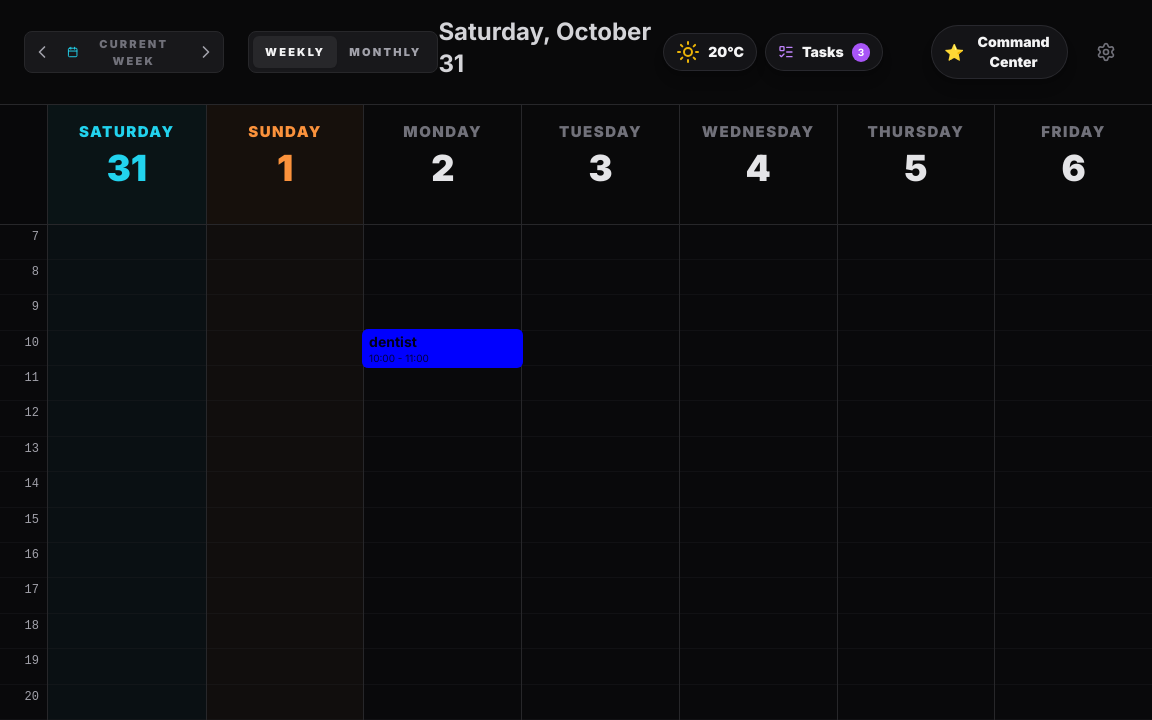
Test: Back from Mission Control › midnight into a new month while away: November is asked for; offline, October's read keeps the days it covers
Click the button with test id "switch-to-mc-btn": (1000, 52) [931, 25, 1068, 79]
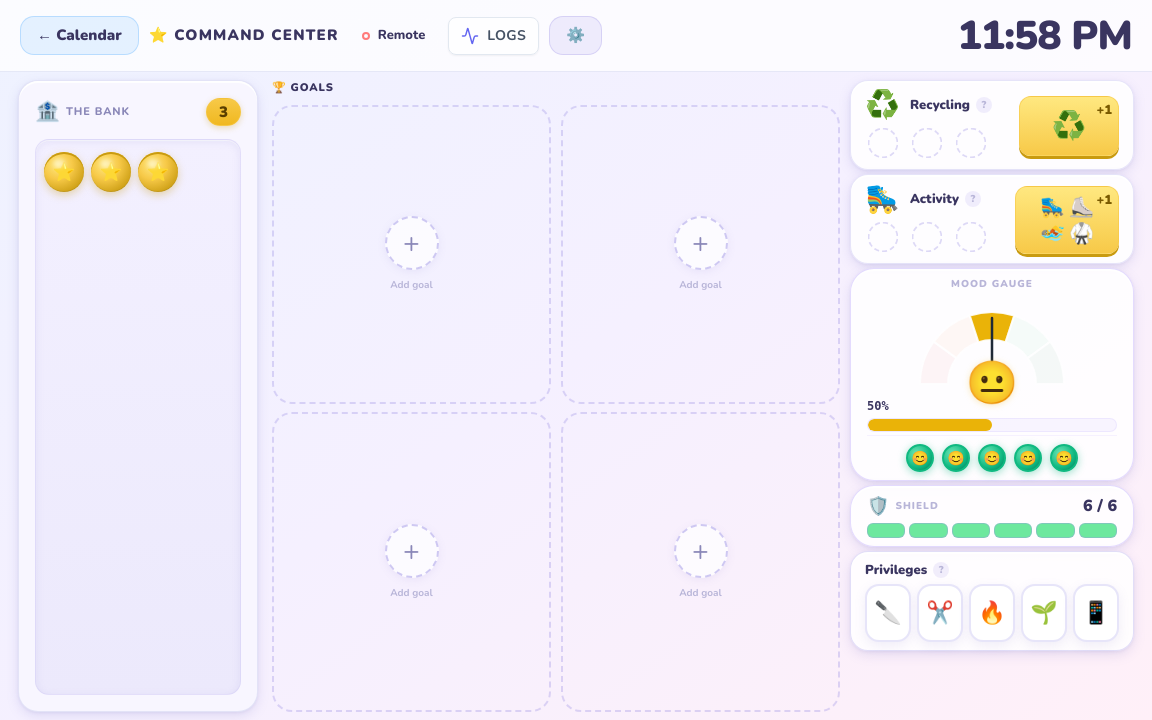
Click the button with test id "mc-back-to-calendar-btn": (79, 36) [20, 16, 139, 55]
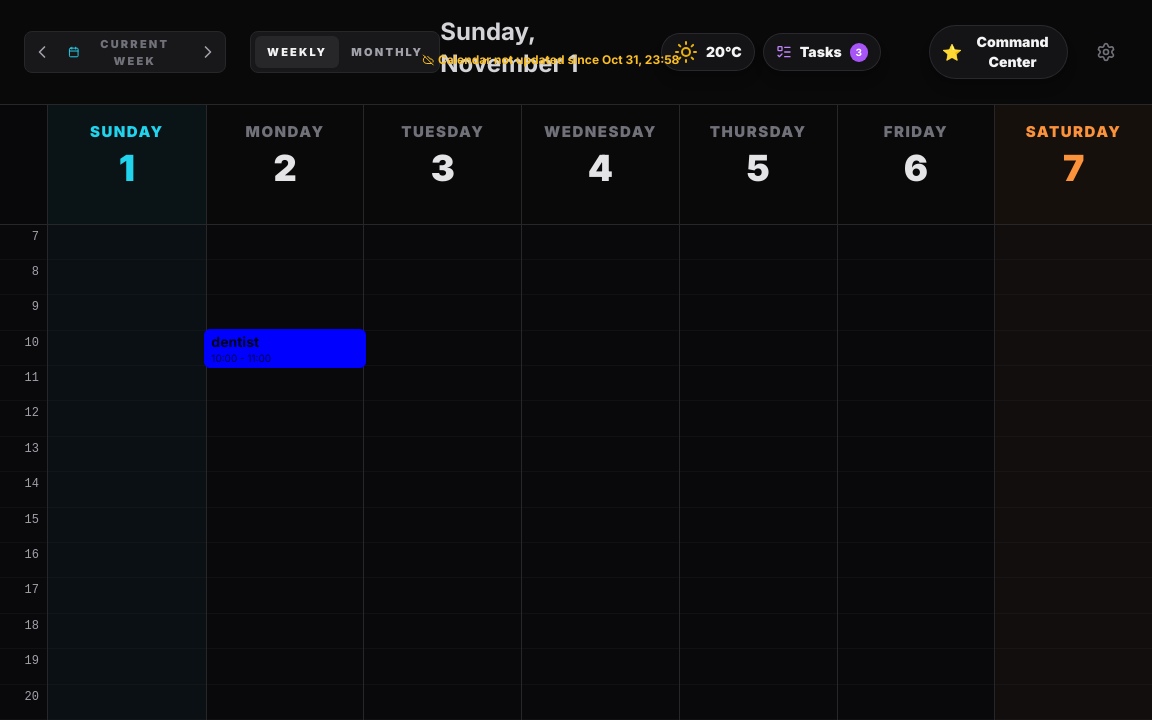
expect the text with test id "day-header-number" reads "1": met, box [119, 146, 135, 190]
expect the element with test id "event-card-dentist" is shown: met, box [204, 329, 366, 368]
expect the element with test id "calendar-read-notice" reads "Calendar not updated since Oct 31, 23:58": met, box [438, 52, 680, 67]
